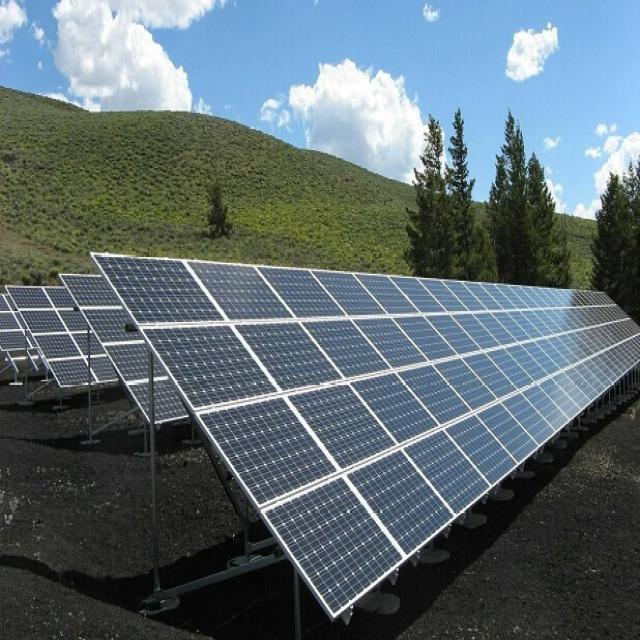Photovoltaic-Panel: (89, 254, 640, 616)
